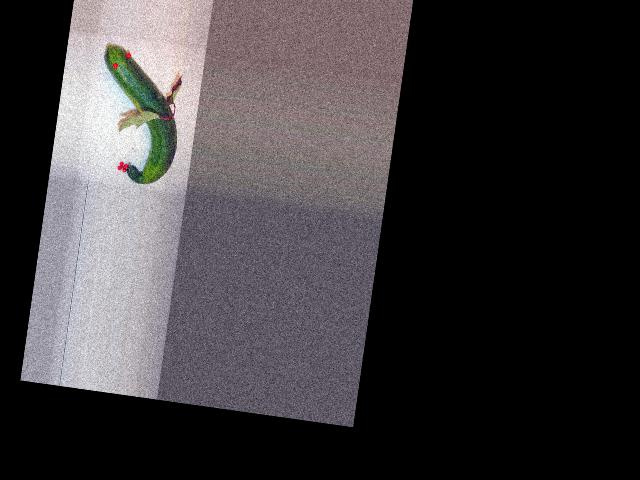cucumber: (87, 44, 189, 188)
